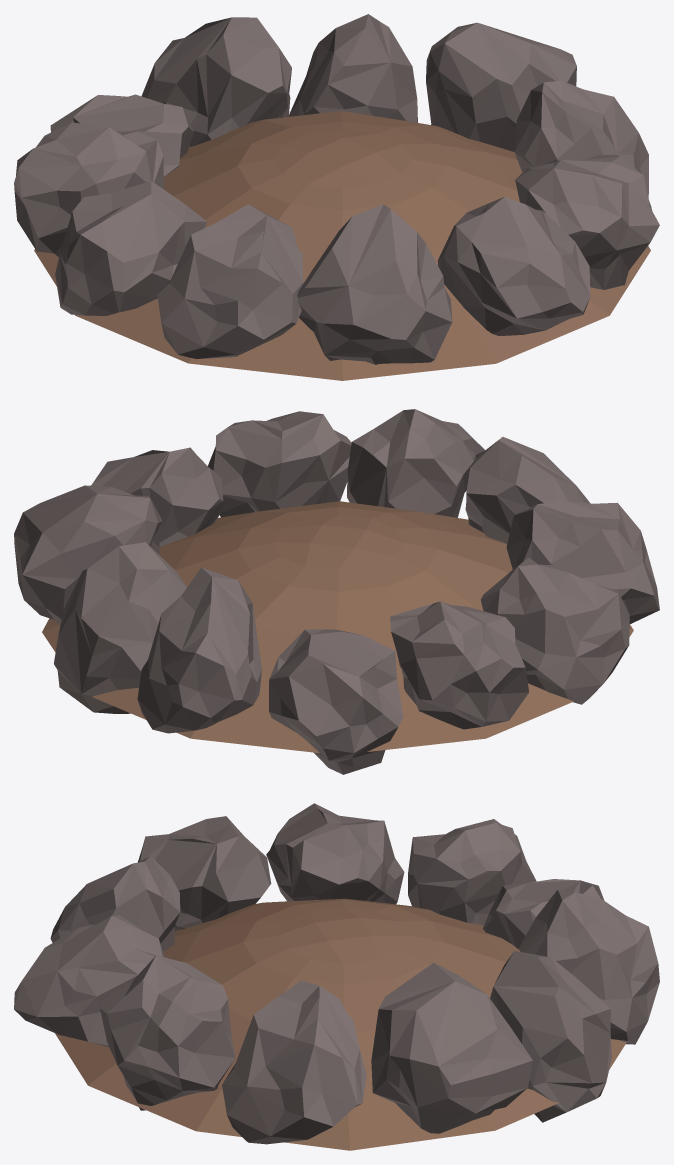
The model's file is SM_fireplace_seperate.fbx.
3 views of the same model, one above another, from view 1: azimuth 30°, elevation 25°; view 2: azimuth 150°, elevation 25°; view 3: azimuth 270°, elevation 25° (orthographic). The views are drawn at different scales.
Visible parts, largest first — view 1: fireplace_seperate; view 2: fireplace_seperate; view 3: fireplace_seperate.
Boxes of the visible parts, bbox=[...] form: fireplace_seperate: bbox=[14, 14, 659, 380]; fireplace_seperate: bbox=[14, 409, 659, 774]; fireplace_seperate: bbox=[14, 803, 659, 1150].
Size of the model in its own units: 81.02 by 24.32 by 82.68.
